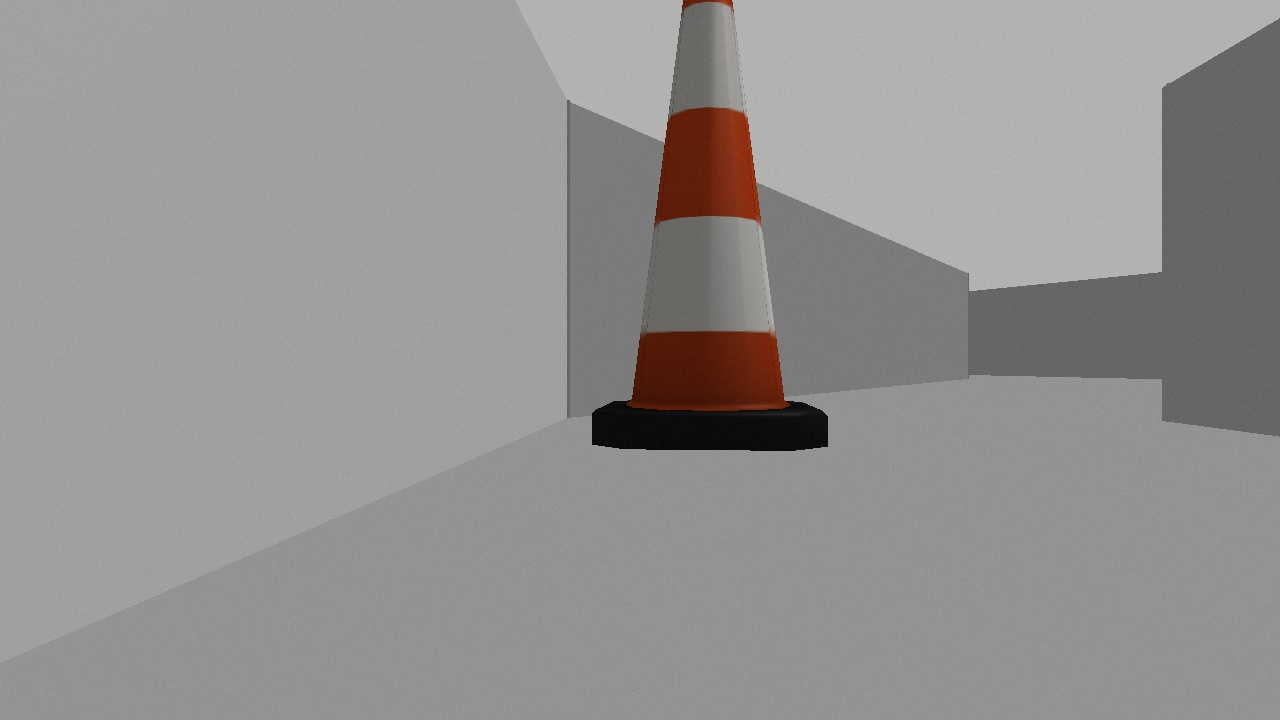barricade: (579, 1, 843, 467)
